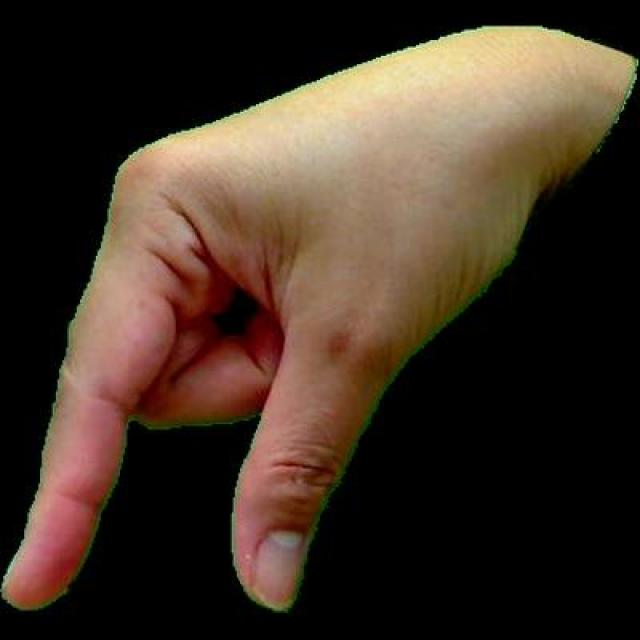q: (0, 14, 637, 613)
